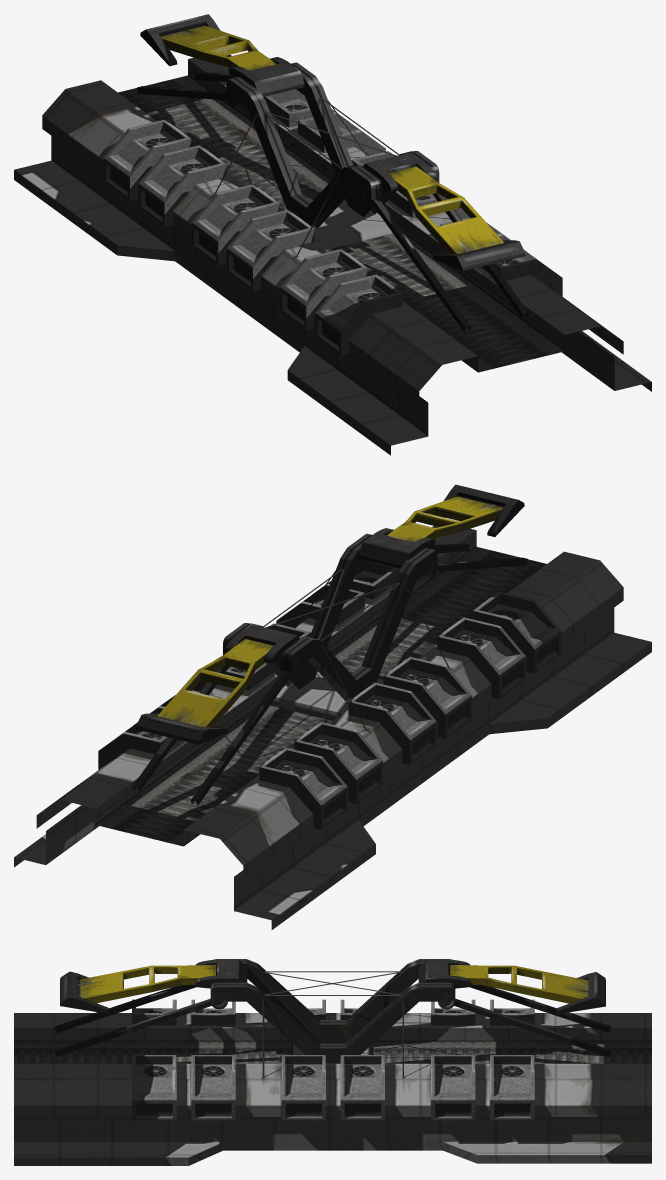
The model's file is ML1_Junction.FBX.
3 renders of one model, top to bottom at view 1: azimuth 30°, elevation 25°; view 2: azimuth 150°, elevation 25°; view 3: azimuth 270°, elevation 25°, orthographic. The views are drawn at different scales.
Parts seen in each view (by area): view 1: ML1_Junction; view 2: ML1_Junction; view 3: ML1_Junction.
Boxes of the visible parts, x1,y1,x2,y2 form: ML1_Junction: (14,14,651,455); ML1_Junction: (14,484,651,929); ML1_Junction: (14,959,651,1165).
Size of the model in its own units: 6.88 by 4.26 by 17.23.
Materials: 1 (1 with a texture image).
